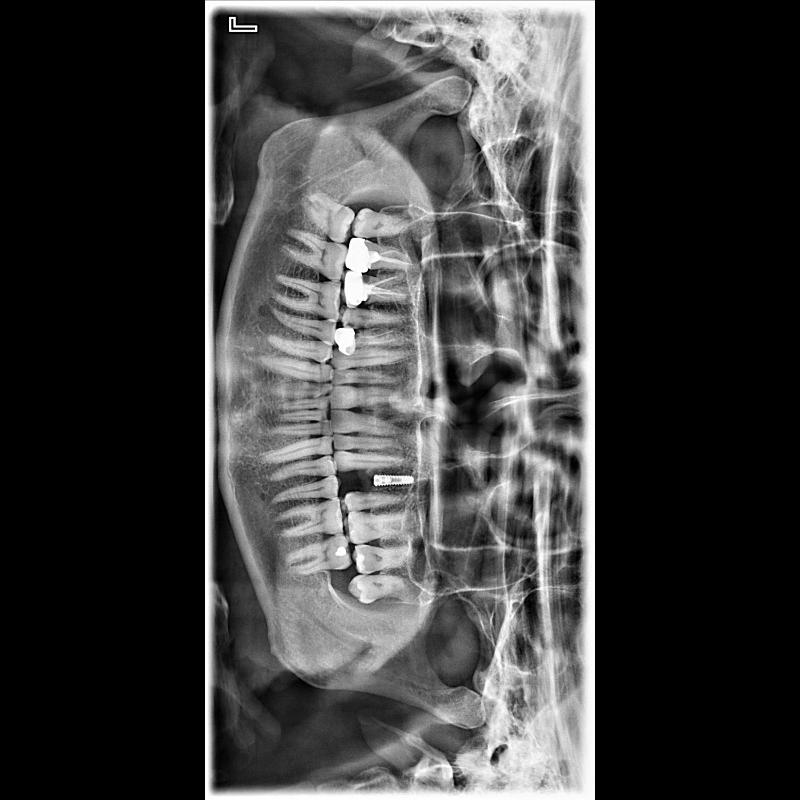osstem: (368, 470, 416, 488)
